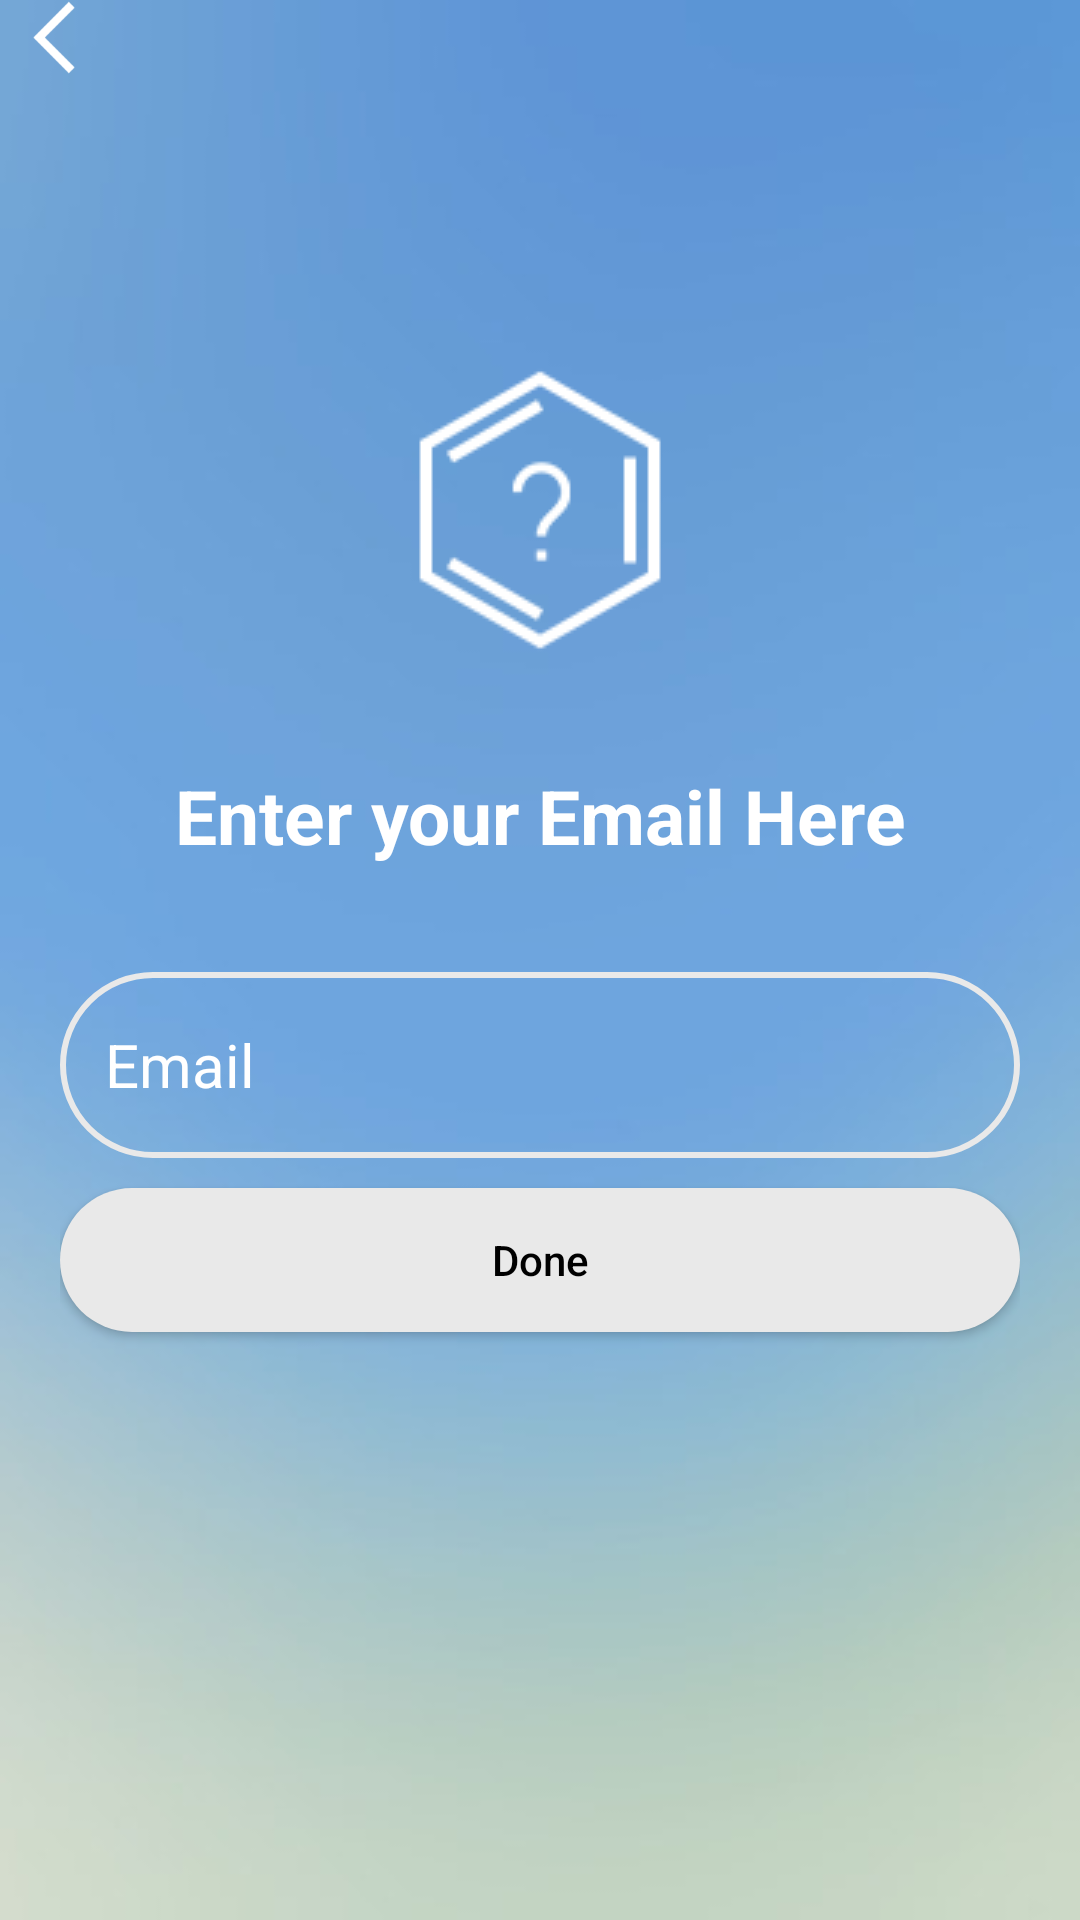

Where icons sit on this 1080 x 1920 app screen, as [x1,y1,x2,y2]:
back: [33,2,75,73]
